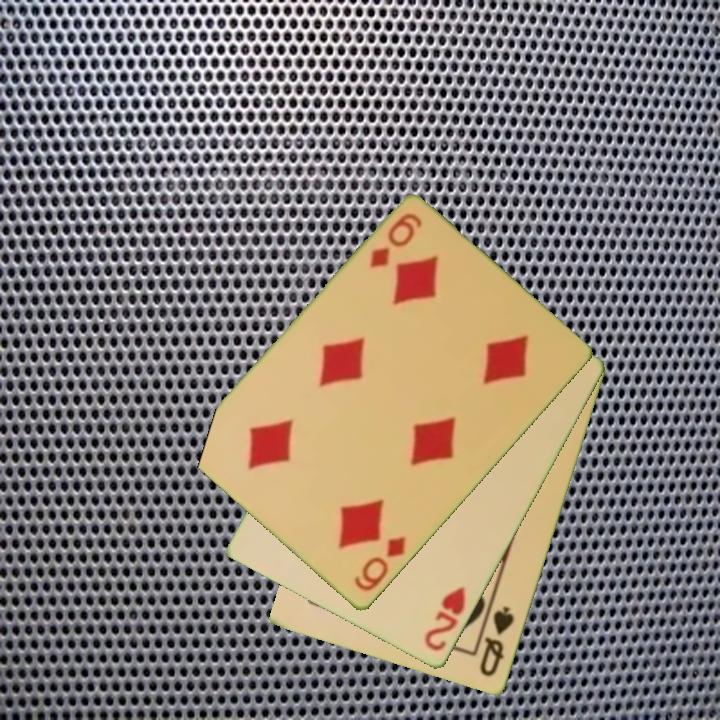2h: (421, 583, 469, 655)
6d: (366, 209, 425, 272), (351, 533, 409, 595)
Qs: (476, 603, 517, 680)
